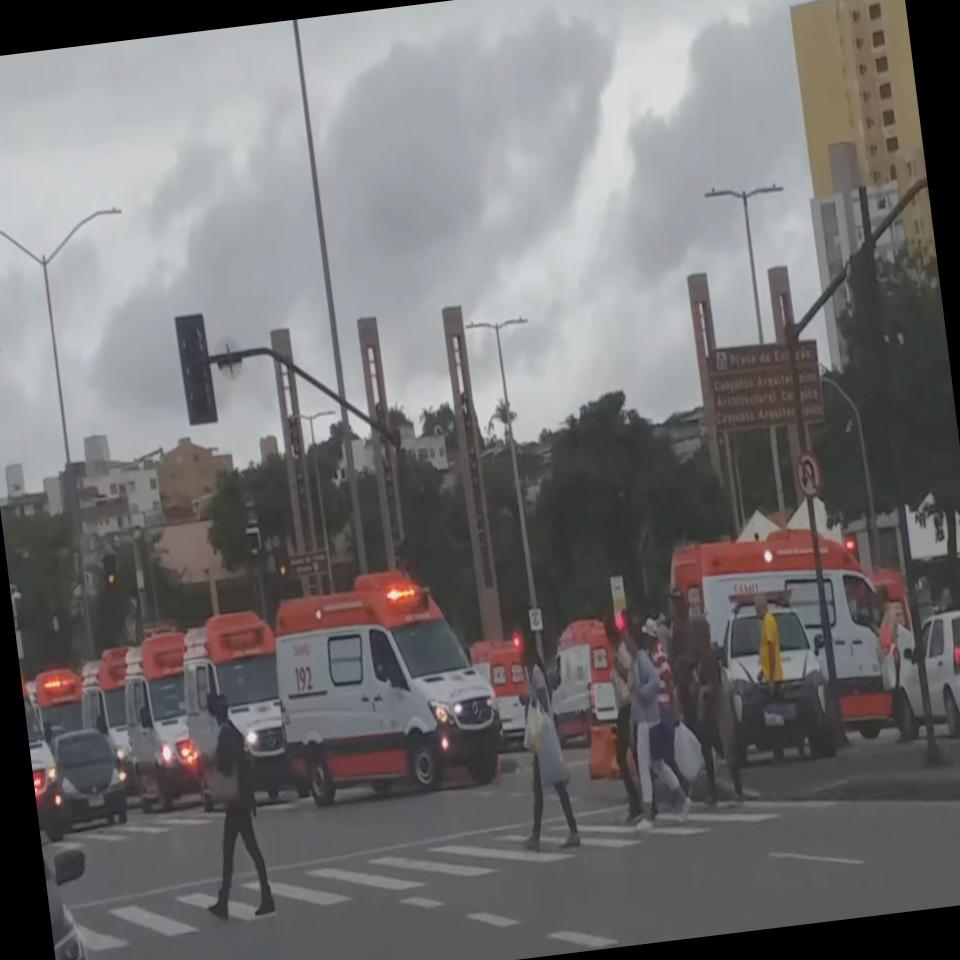bombeiro: (262, 556, 512, 816), (114, 630, 206, 812)
